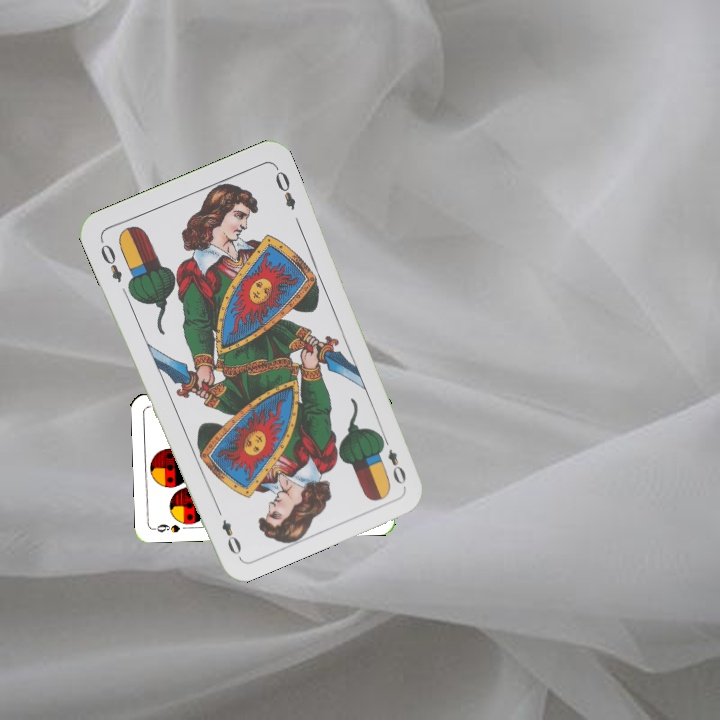EO: (377, 431, 409, 487), (96, 240, 125, 285)
S9: (150, 520, 182, 535)
